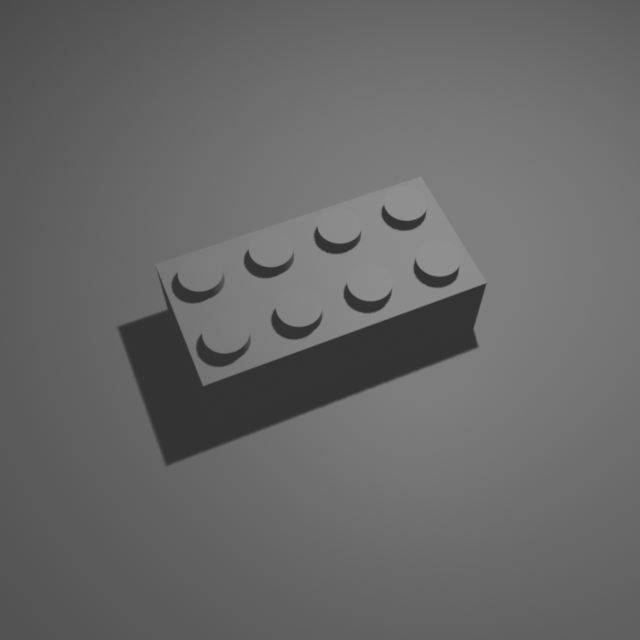lego_2x4: (153, 167, 489, 426)
